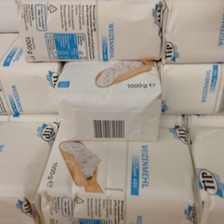flour: (34, 123, 196, 224), (14, 1, 164, 63), (52, 60, 163, 142)
